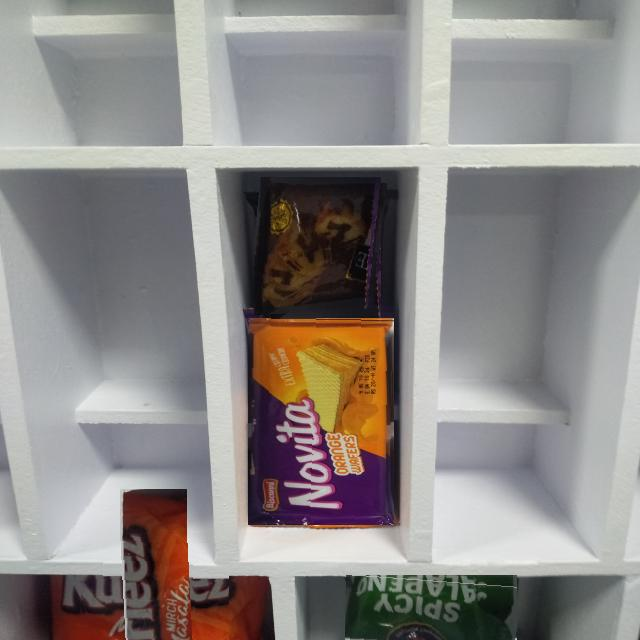Plastic: (248, 317, 394, 525), (254, 183, 388, 316), (78, 530, 229, 640), (345, 574, 517, 640)
